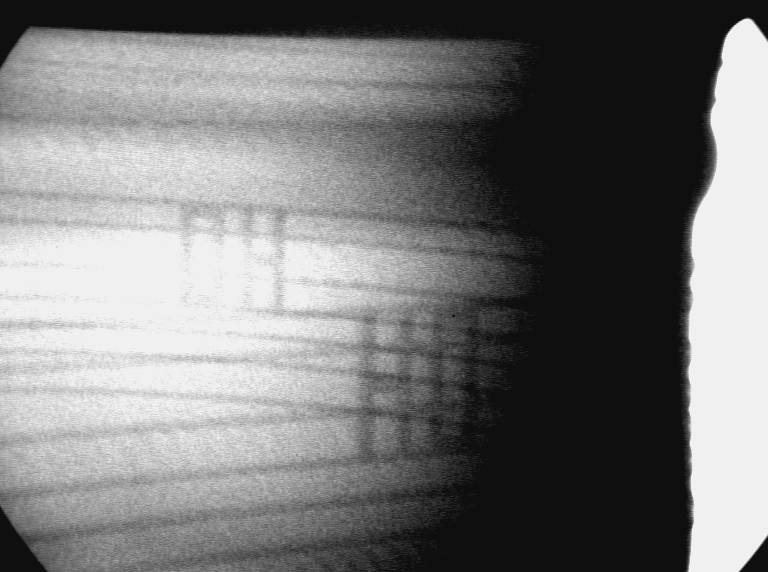defect: (349, 304, 481, 469)
